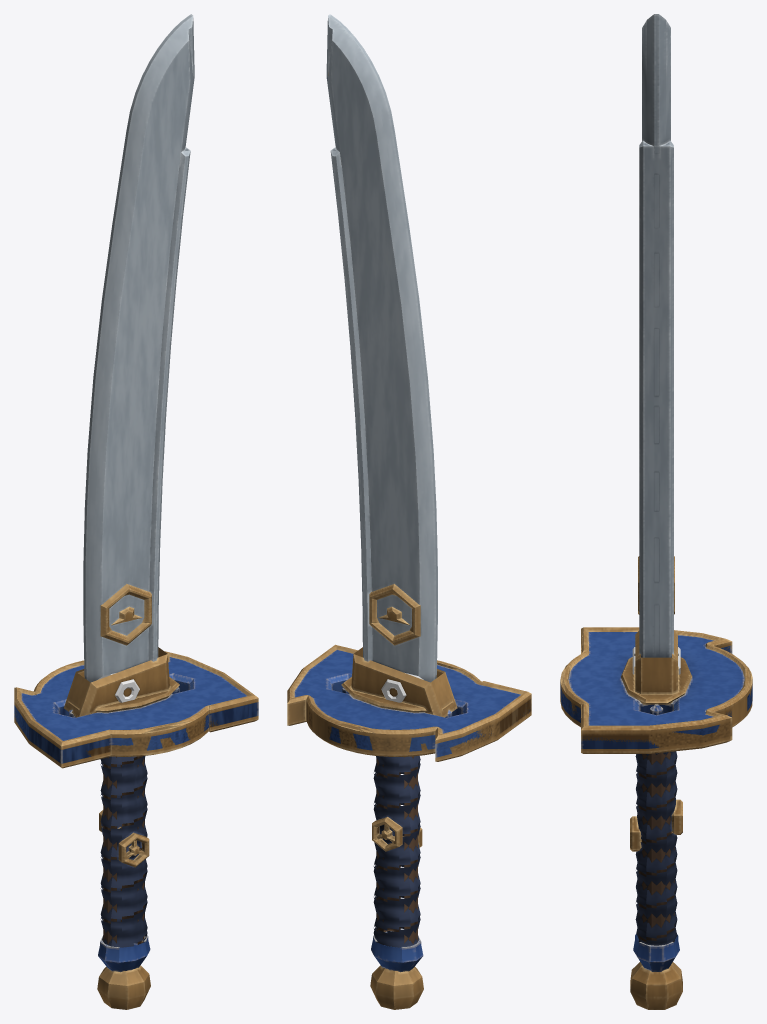
Rendered from Stillwater Edge.fbx.
3 views of the same model, side by side, from view 1: azimuth 30°, elevation 25°; view 2: azimuth 150°, elevation 25°; view 3: azimuth 270°, elevation 25° (orthographic). The views are drawn at different scales.
Visible parts, largest first — view 1: Stillwater Edge_Body; view 2: Stillwater Edge_Body; view 3: Stillwater Edge_Body.
Part boxes in pixels (<box>): Stillwater Edge_Body: <box>14,14,258,1009</box>; Stillwater Edge_Body: <box>287,14,531,1009</box>; Stillwater Edge_Body: <box>560,14,752,1009</box>.
Size of the model in its own units: 1.05 by 4.96 by 0.8393.
